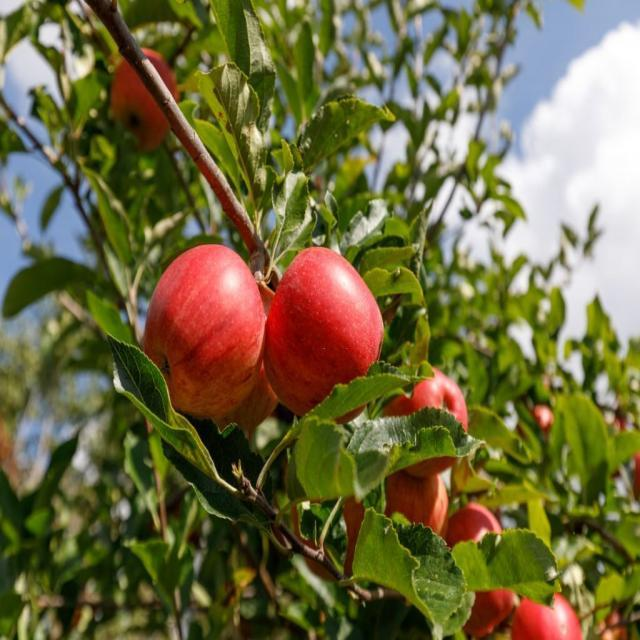Red Apple: (148, 247, 265, 409), (266, 246, 379, 413), (393, 352, 472, 470), (441, 508, 516, 631), (371, 462, 448, 555), (114, 52, 173, 136), (515, 586, 583, 640), (527, 405, 561, 443), (595, 608, 627, 640), (621, 448, 640, 489)
